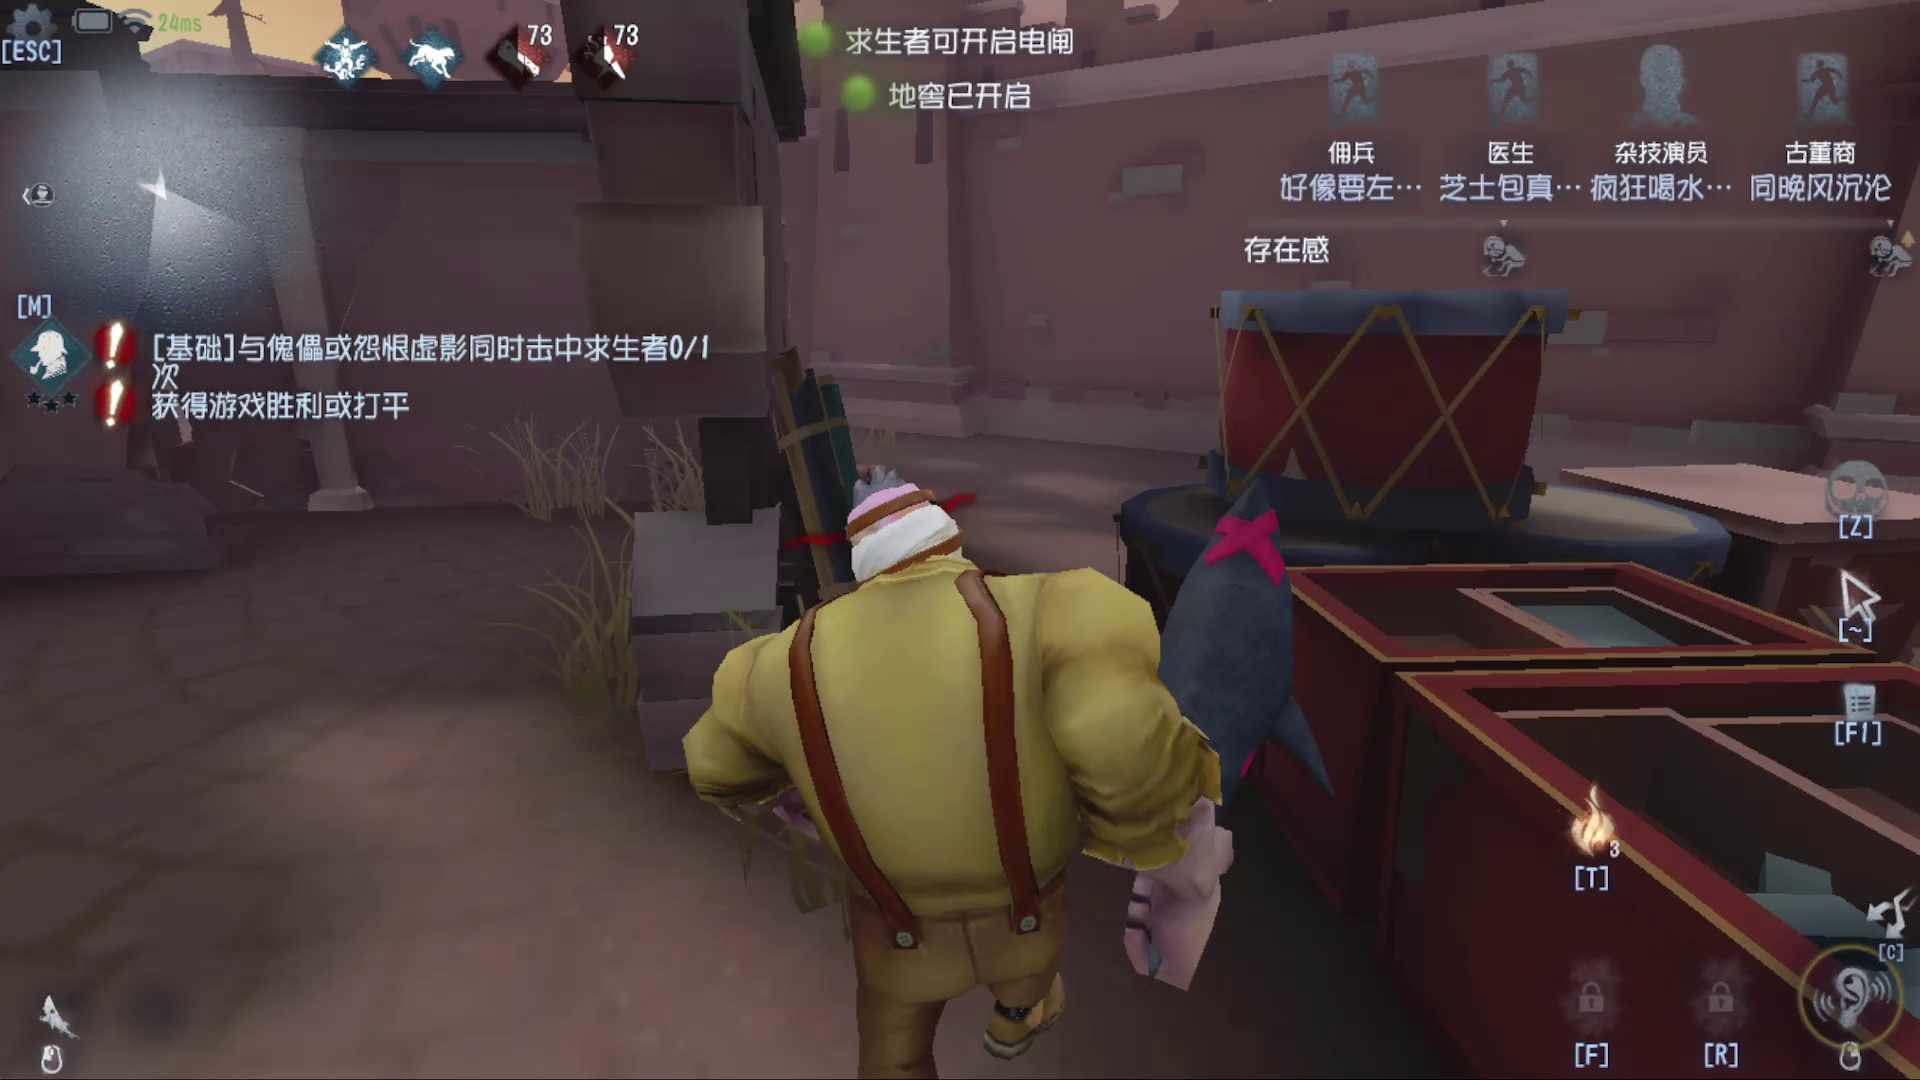技能: (1544, 773, 1629, 902)
木板: (756, 334, 916, 723)
